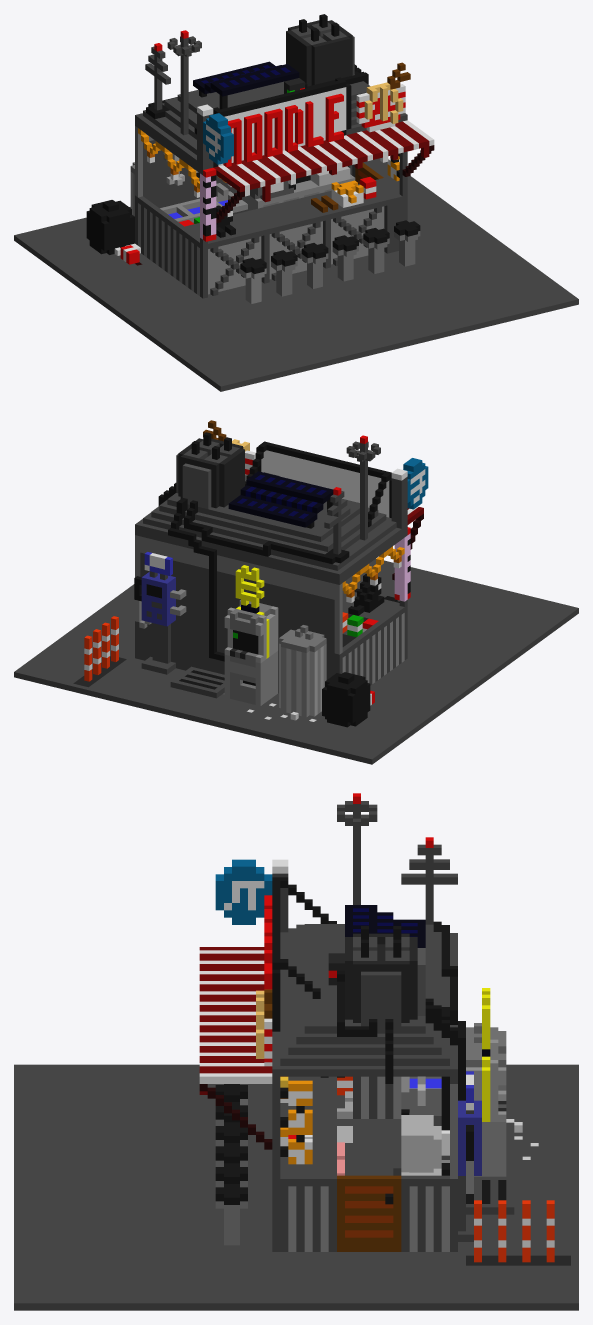
3 views of the same model, one above another, from view 1: azimuth 30°, elevation 25°; view 2: azimuth 150°, elevation 25°; view 3: azimuth 270°, elevation 25° (orthographic). The views are drawn at different scales.
Parts seen in each view (by area): view 1: Object_2; view 2: Object_2; view 3: Object_2.
Part boxes in pixels (x1,y1,x2,y2): Object_2: (14,14,578,391); Object_2: (14,420,578,764); Object_2: (14,793,578,1310).
Bounding box in the file's own units: 6.63 × 4.36 × 6.63.
Materials: 1 (1 with a texture image).
